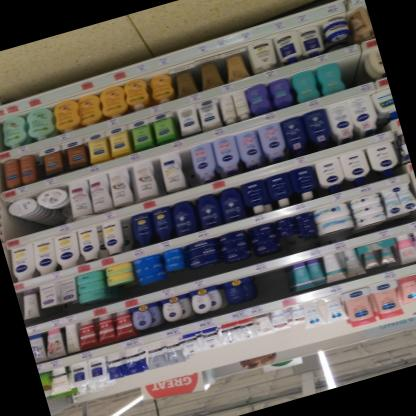empty_space: (251, 266, 292, 303), (341, 56, 365, 86), (180, 148, 199, 184)
